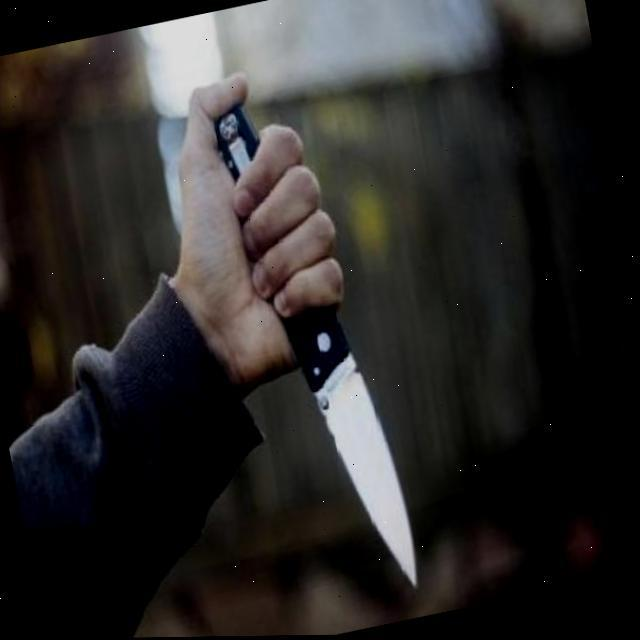knife: (203, 83, 434, 612)
